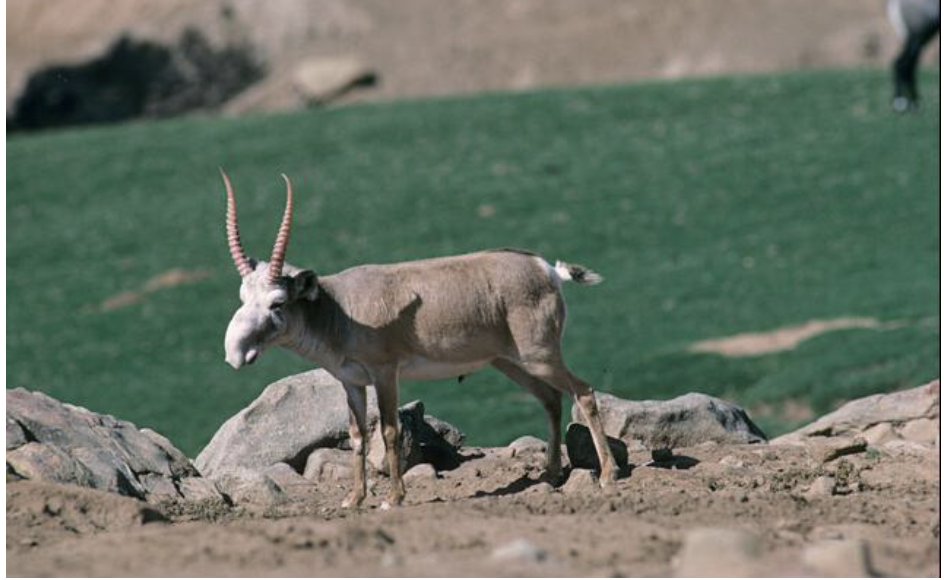saiga: (202, 153, 630, 513)
